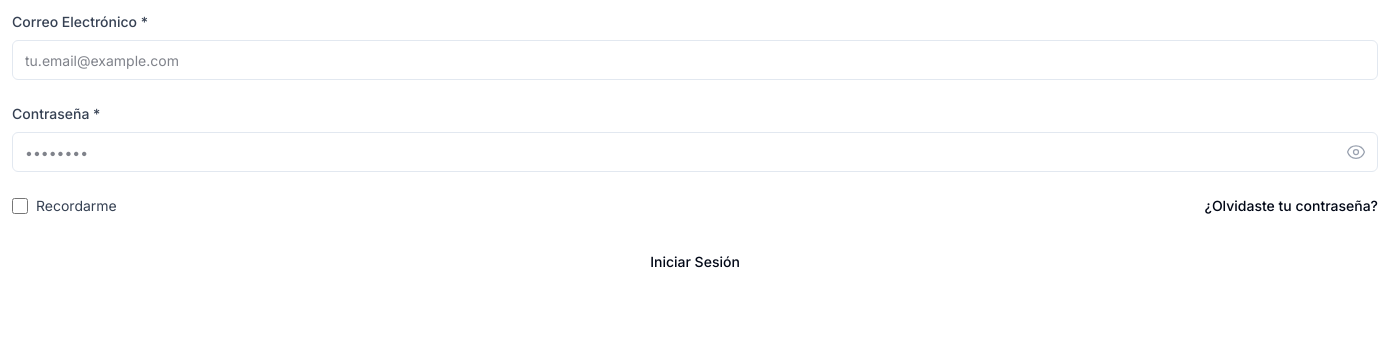
LoginForm Component › Form Submission › handles network errors
This screenshot has width=1390, height=363.
Type "test@example.com" into the field labelled "Correo Electrónico *".
click(695, 60); type("test@example.com")  # box [12,40,1378,80]
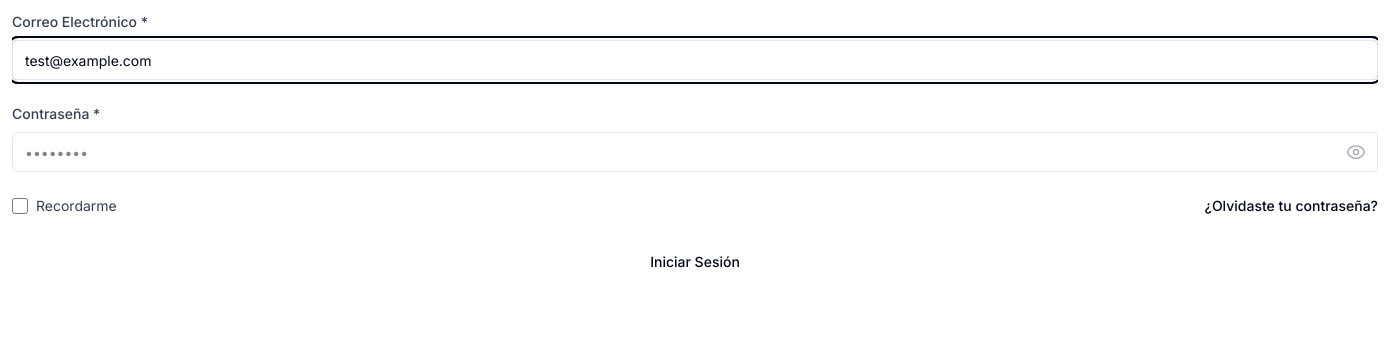
Type "password" into the password field labelled "Contraseña *".
click(695, 152); type("password")  # box [12,132,1378,172]
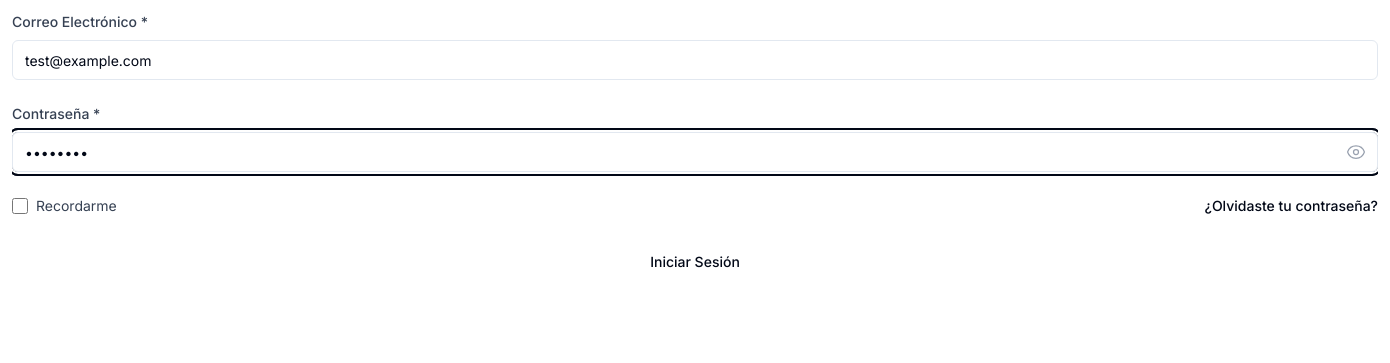
Click the button "Iniciar Sesión".
click(695, 262)  # box [12,240,1378,284]
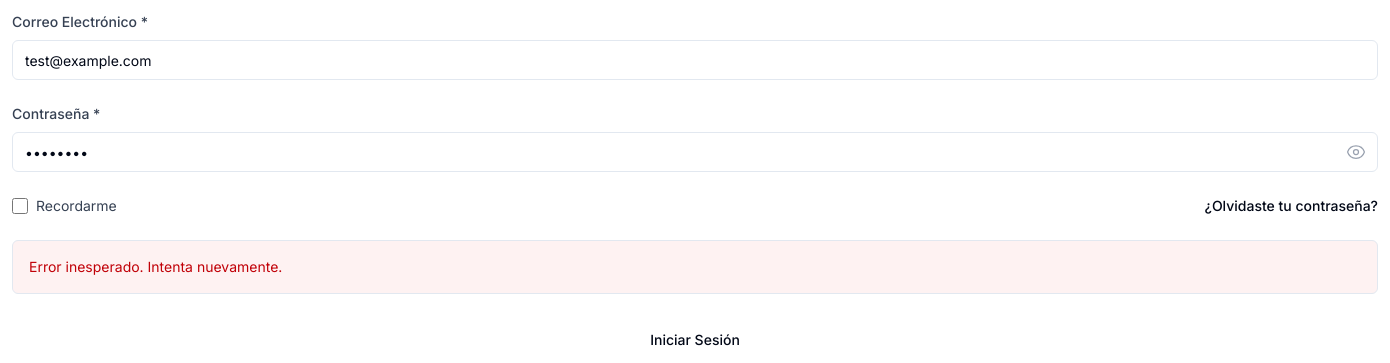
Expected: the text "Error inesperado. Intenta nuevamente." is shown, [29,258,282,275]
